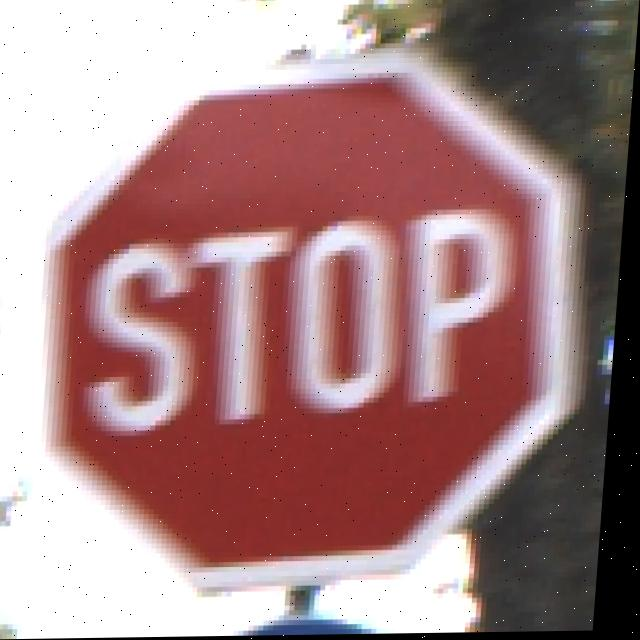stop: (35, 87, 612, 582)
